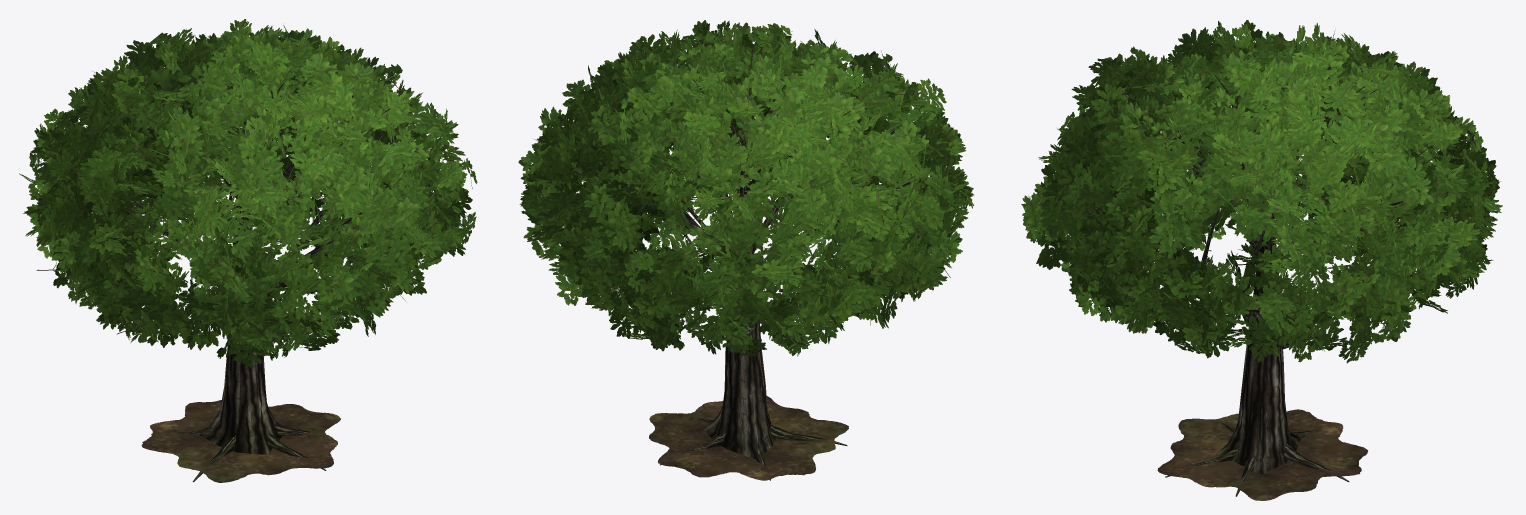
The model's file is oak-large-mid.glb.
The picture shows the model from 3 angles, left to right: view 1: azimuth 30°, elevation 25°; view 2: azimuth 150°, elevation 25°; view 3: azimuth 270°, elevation 25°; orthographic projection. The views are drawn at different scales.
Visible parts, largest first — view 1: oak_large_mid; view 2: oak_large_mid; view 3: oak_large_mid.
Part boxes in pixels (x1=…): oak_large_mid: x1=19, y1=19, x2=477, y2=482; oak_large_mid: x1=518, y1=20, x2=974, y2=480; oak_large_mid: x1=1021, y1=20, x2=1502, y2=500.
Size of the model in its own units: 12.98 by 12.61 by 13.34.
Materials: 1 (1 with a texture image).
